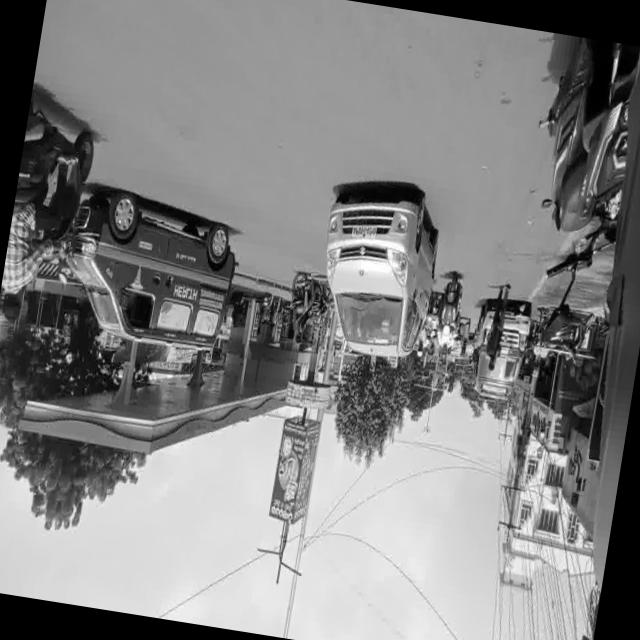ambulance: (55, 202, 242, 362), (470, 309, 535, 410)
